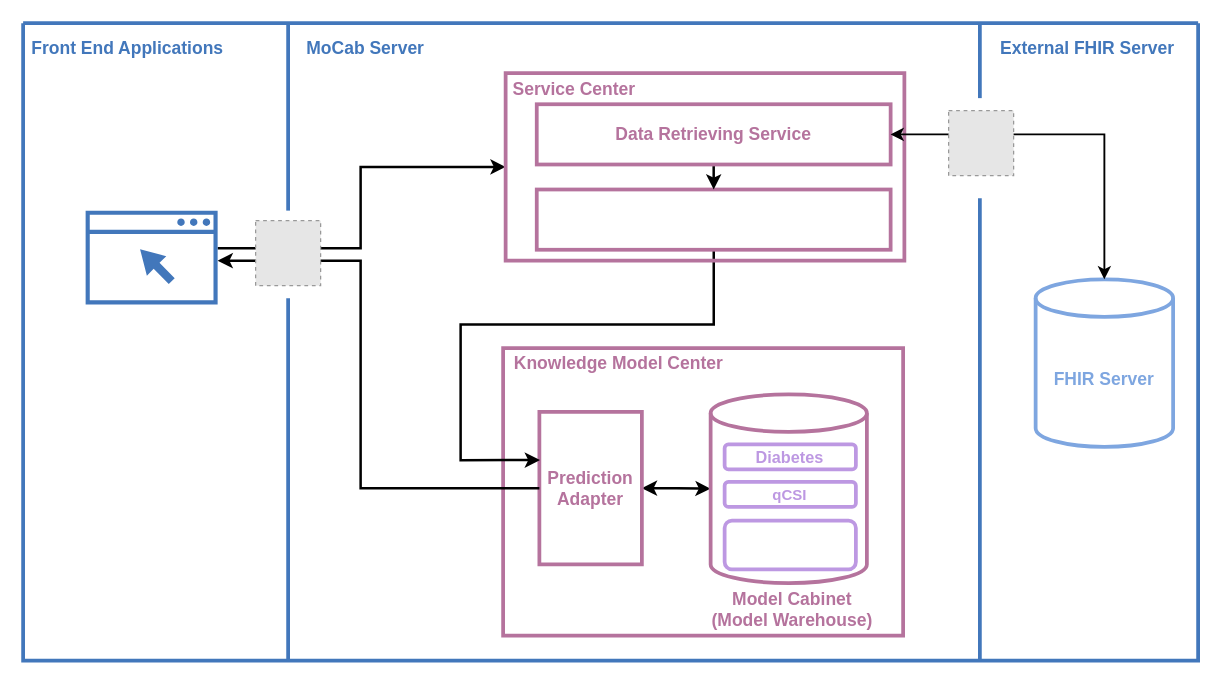
This 1221x684 diagram has some shape labels left out. Grey dashed boxes stand in for pictures. Each missing label, with the centre of its shape:
"Data Preprocessing Service" goes at (x=713, y=219).
"HIS Client" goes at (x=151, y=257).
"Other prediction models" goes at (x=789, y=544).
